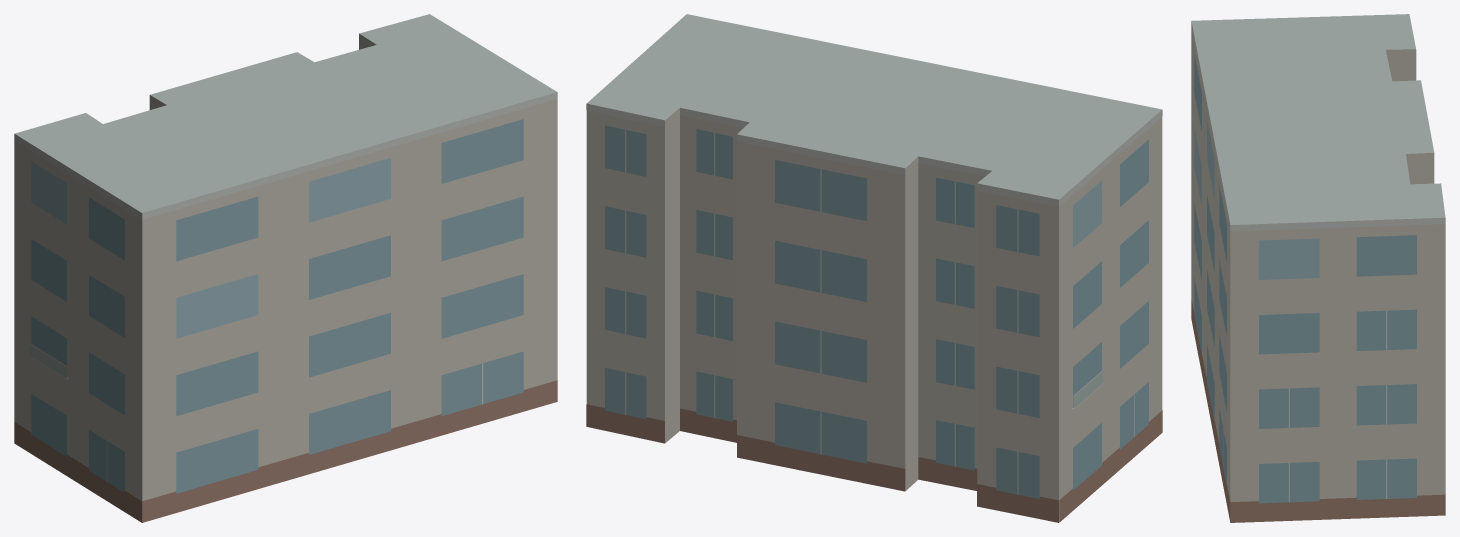
Rendered from survey-upis-32756436.glb.
3 views of the same model, side by side, from view 1: azimuth 30°, elevation 25°; view 2: azimuth 150°, elevation 25°; view 3: azimuth 270°, elevation 25° (orthographic). The views are drawn at different scales.
Parts seen in each view (by area): view 1: survey-upis-32756436.tmp; view 2: survey-upis-32756436.tmp; view 3: survey-upis-32756436.tmp.
Part boxes in pixels (x1,y1,x2,y2): survey-upis-32756436.tmp: [14, 14, 557, 522]; survey-upis-32756436.tmp: [586, 14, 1162, 522]; survey-upis-32756436.tmp: [1191, 14, 1445, 522].
Bounding box in the file's own units: 17.19 × 11.3 × 8.75.
